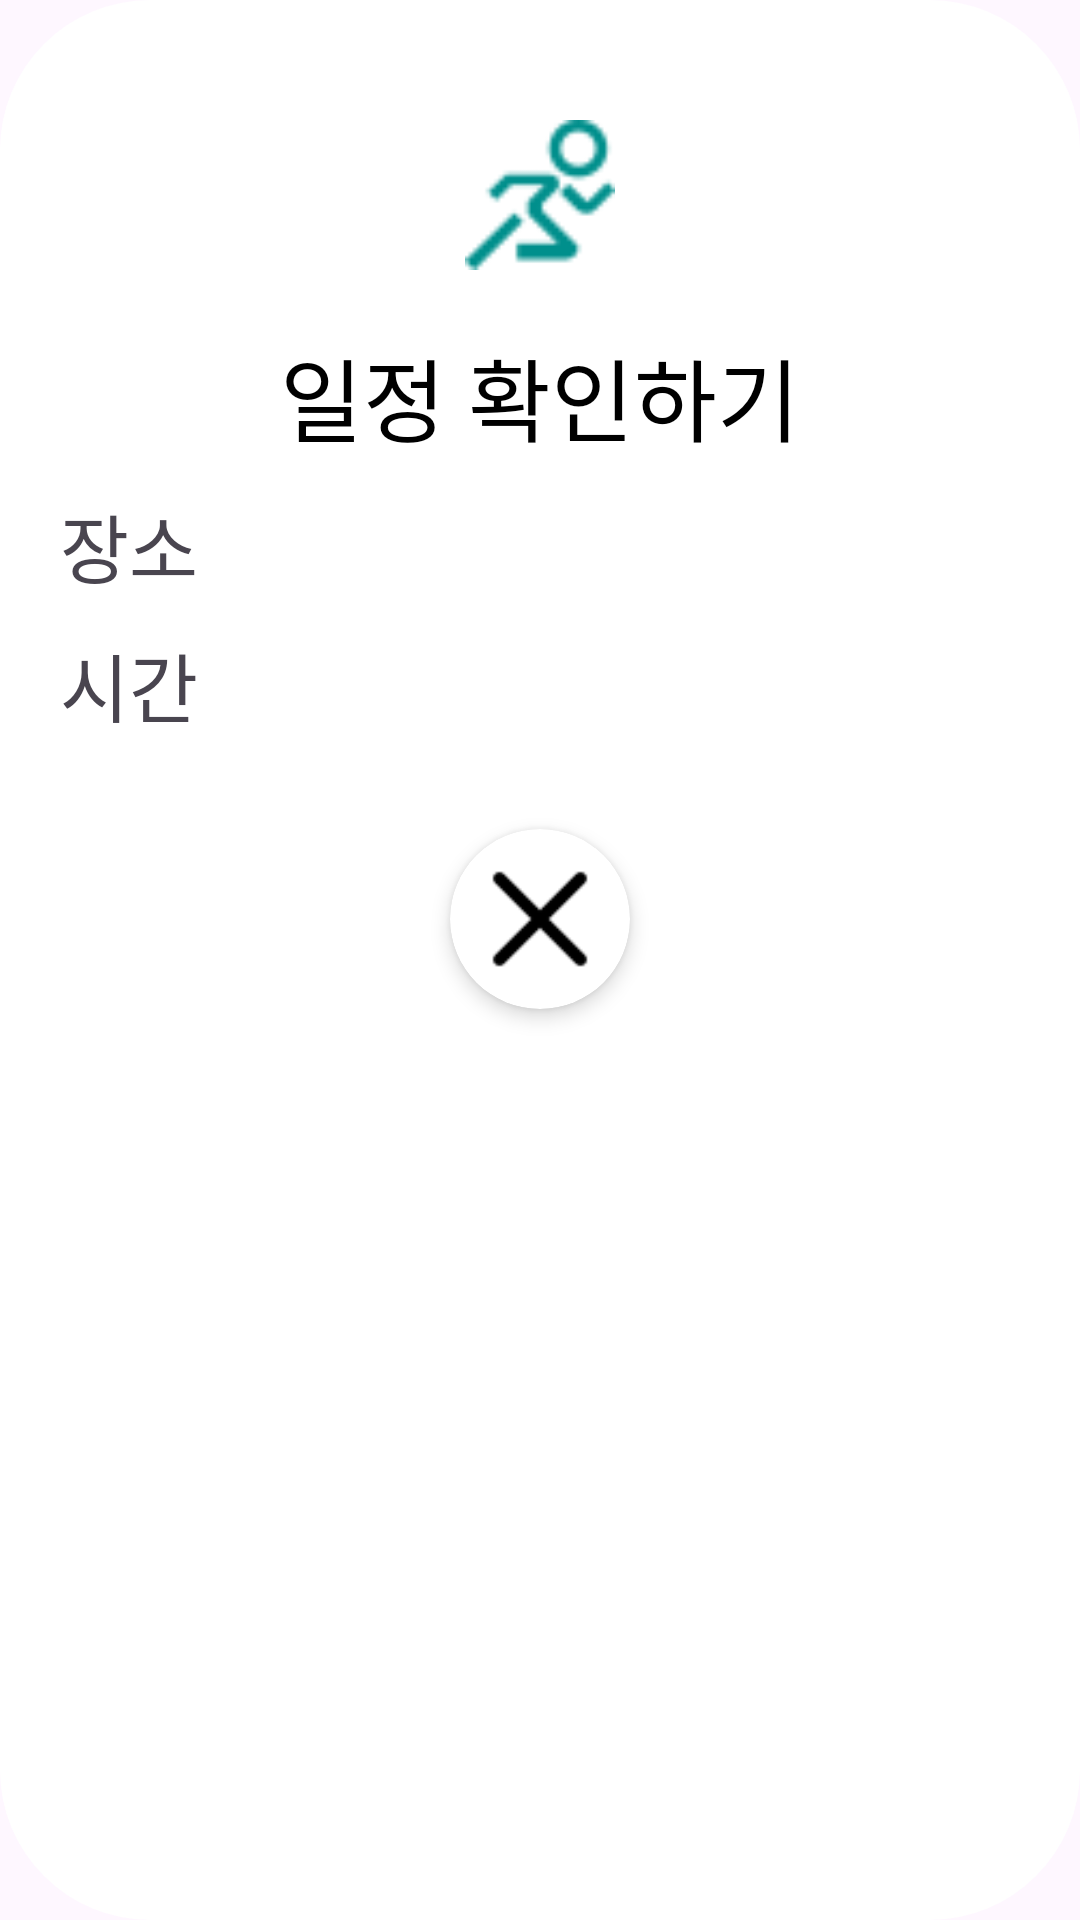

Where to tap for icons on this 1080 x 1920 app screen, as (x=x, y=y):
calendarrunning: (x=540, y=195)
close: (x=540, y=919)
